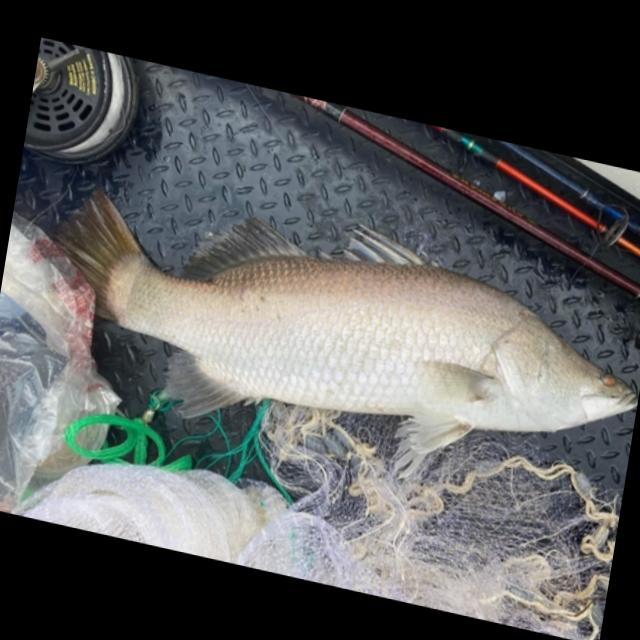Seabass: (22, 150, 640, 530)
